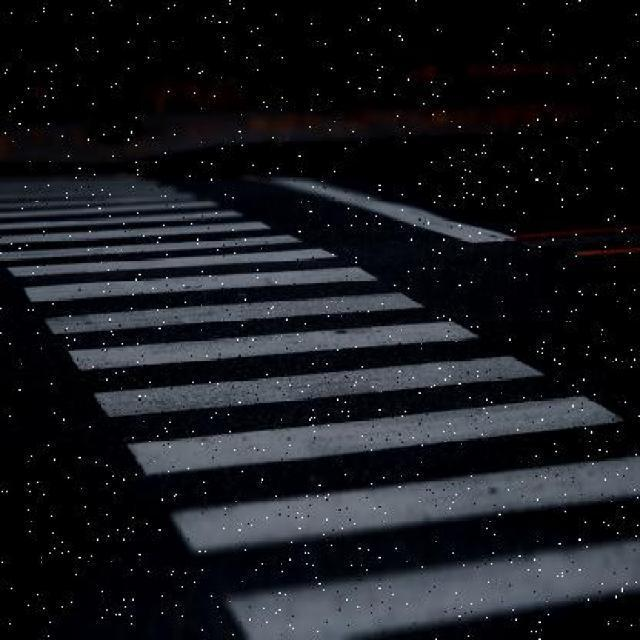crosswalk: (2, 174, 640, 638)
